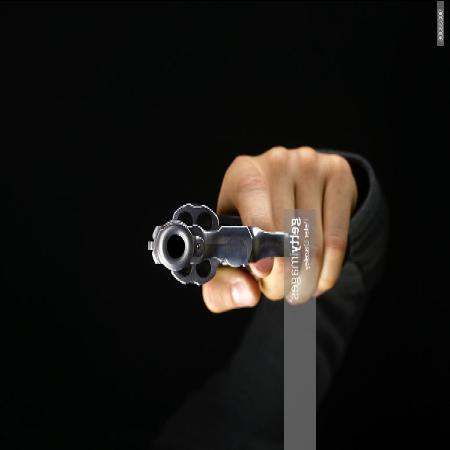Pistol: (138, 198, 294, 286)
